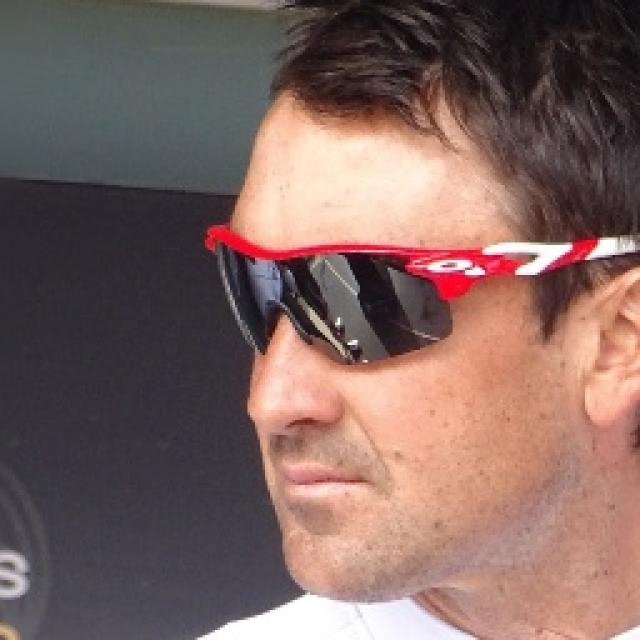glasses: (193, 210, 579, 377)
